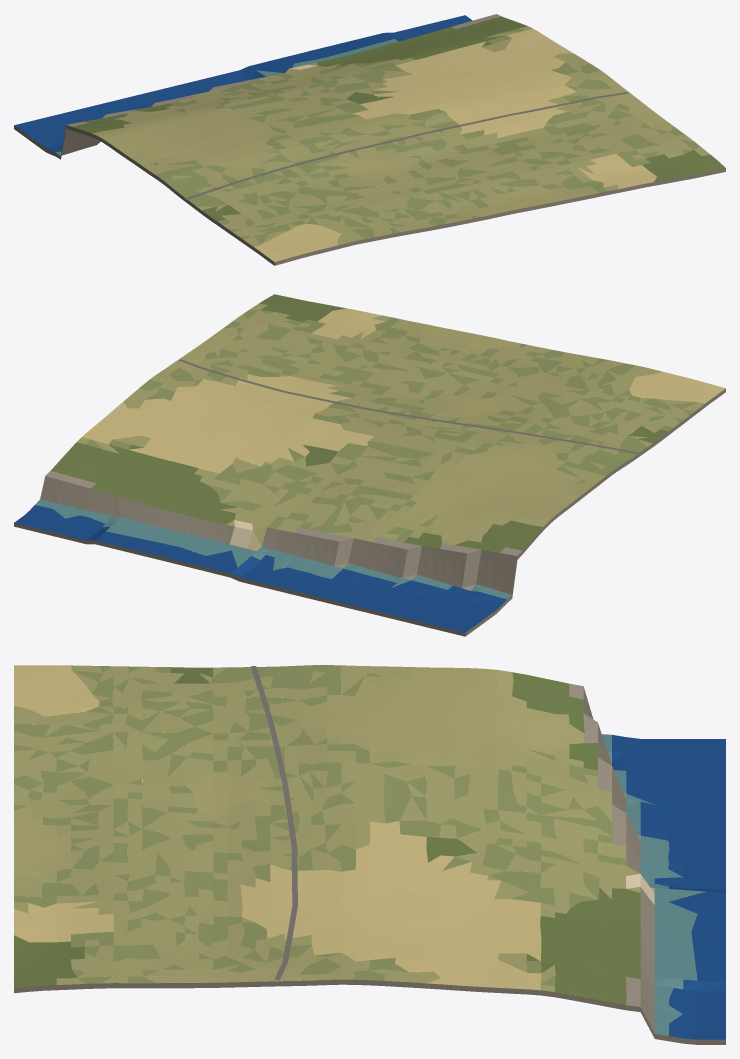
Rendered from parca_+8_+2-uzak.glb.
3 views of the same model, one above another, from view 1: azimuth 30°, elevation 25°; view 2: azimuth 150°, elevation 25°; view 3: azimuth 270°, elevation 25° (orthographic). The views are drawn at different scales.
Visible parts, largest first — view 1: parca_+8_+2_arazi_uzak, parca_+8_+2_yollar_uzak; view 2: parca_+8_+2_arazi_uzak, parca_+8_+2_yollar_uzak; view 3: parca_+8_+2_arazi_uzak, parca_+8_+2_yollar_uzak.
Boxes of the visible parts, <box> form: parca_+8_+2_arazi_uzak: <box>14,14,725,265</box>; parca_+8_+2_yollar_uzak: <box>185,92,628,199</box>; parca_+8_+2_arazi_uzak: <box>14,294,725,636</box>; parca_+8_+2_yollar_uzak: <box>179,359,639,454</box>; parca_+8_+2_arazi_uzak: <box>14,665,725,1044</box>; parca_+8_+2_yollar_uzak: <box>250,666,297,980</box>.
Bounding box in the file's own units: 1003 × 125 × 1000.
